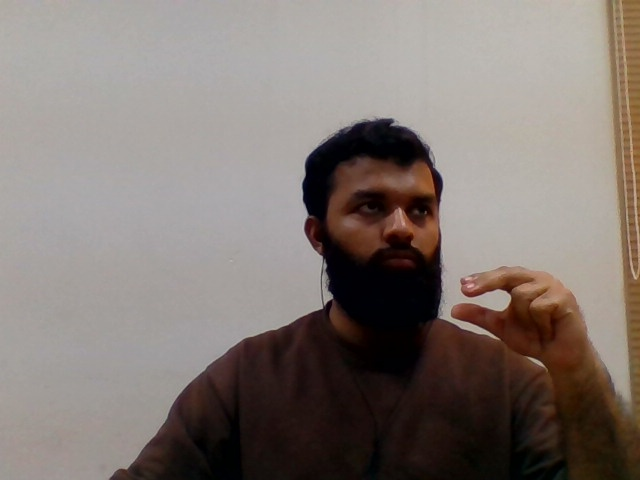No: (446, 256, 614, 370)
